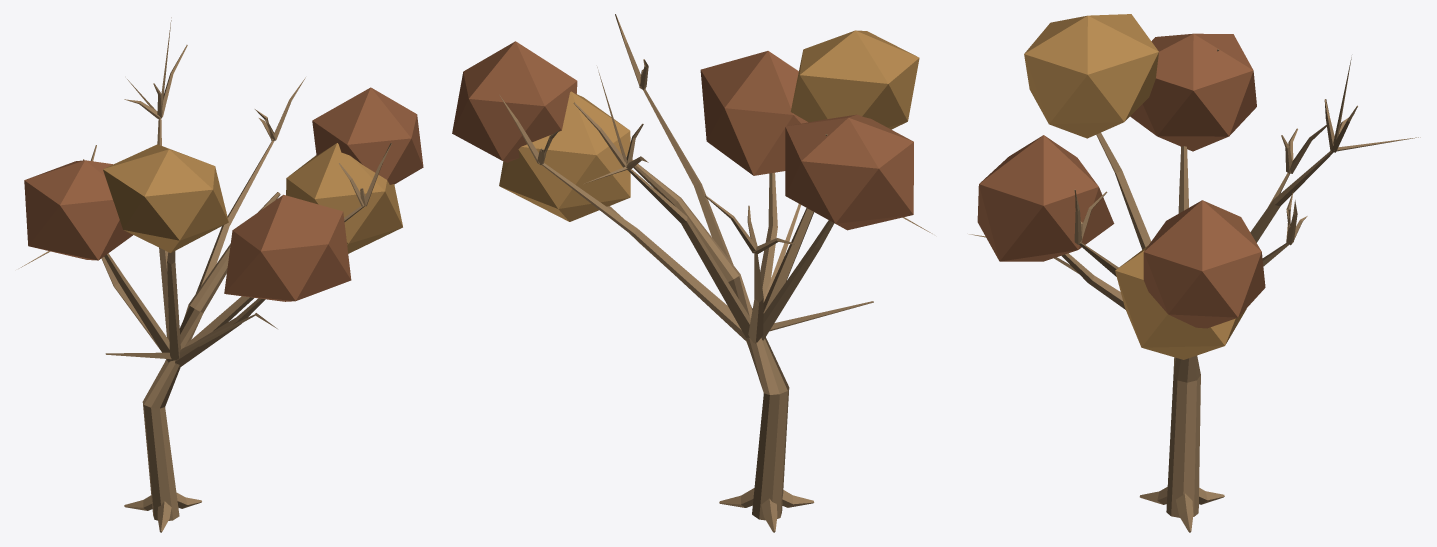
The model's file is oak_autumn_late_03.glb.
3 views of the same model, side by side, from view 1: azimuth 30°, elevation 25°; view 2: azimuth 150°, elevation 25°; view 3: azimuth 270°, elevation 25° (orthographic). The views are drawn at different scales.
Parts seen in each view (by area): view 1: Oak_autumn_late_03; view 2: Oak_autumn_late_03; view 3: Oak_autumn_late_03.
Part boxes in pixels (x1=…): Oak_autumn_late_03: x1=19, y1=17, x2=423, y2=532; Oak_autumn_late_03: x1=452, y1=14, x2=932, y2=532; Oak_autumn_late_03: x1=969, y1=14, x2=1420, y2=532.
Size of the model in its own units: 13.76 by 13.8 by 11.28.
